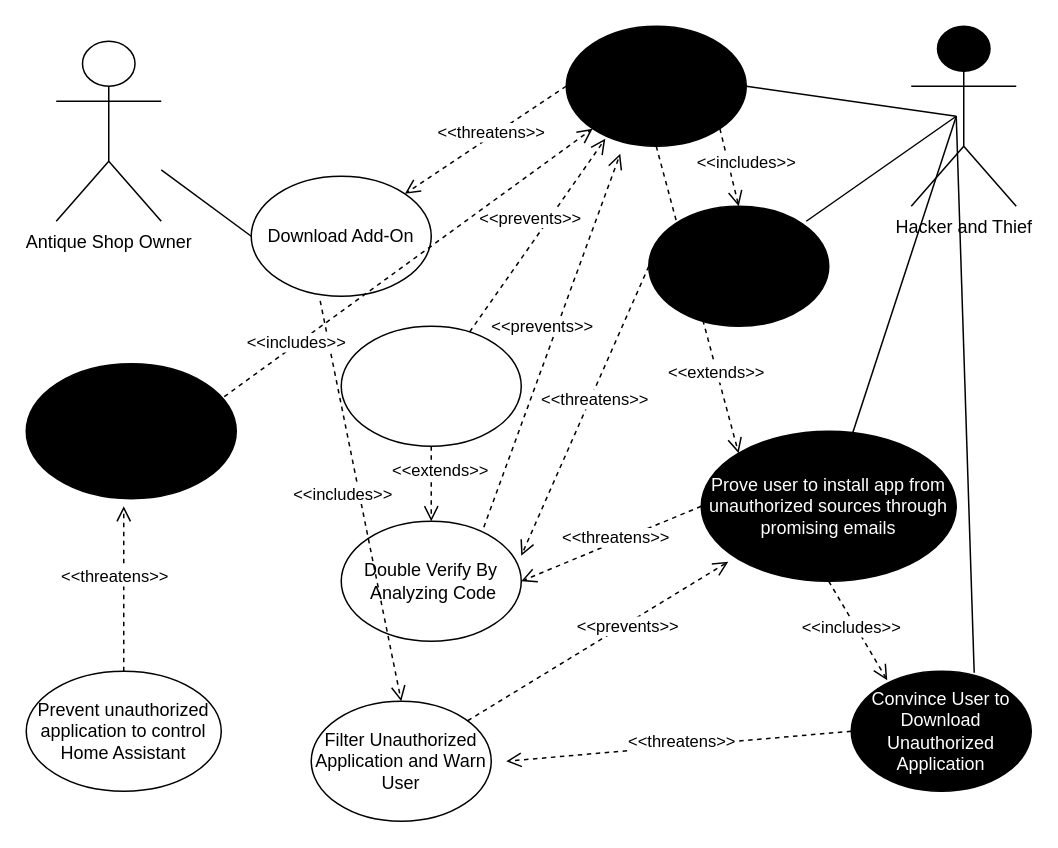
The diagram is 1058 pixels wide and 848 high, and some of its shapes have lost their labels. Each missing label, with the centre of its shape:
"Create and Supply Harmful Add-On" belongs at (655,85).
"Create False Verification and Gain Entry" belongs at (738,265).
"Take control of Home Assistant through Add-On" belongs at (130,430).
"Verify Add-On" belongs at (430,385).
